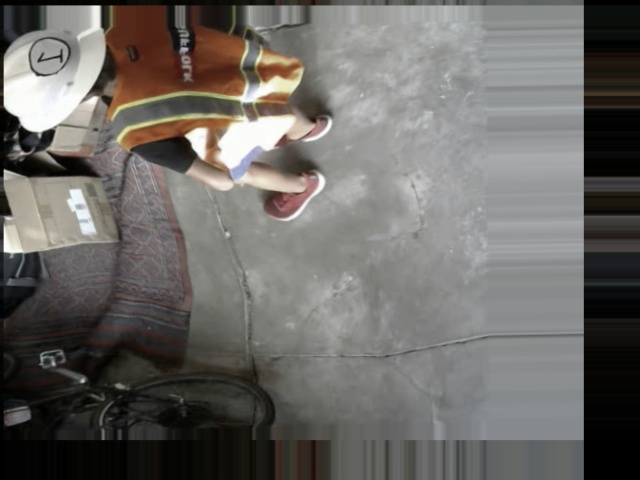one: (26, 36, 71, 78)
